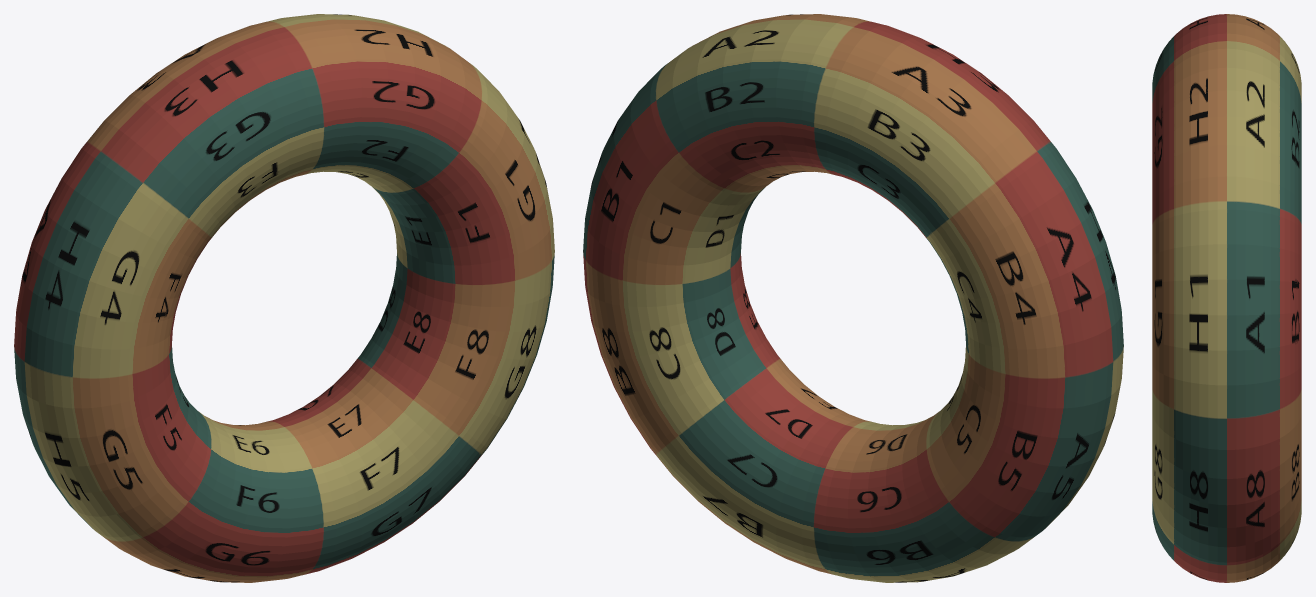
The model's file is texture_torus_R27_r30.glb.
3 renders of one model, left to right at view 1: azimuth 30°, elevation 25°; view 2: azimuth 150°, elevation 25°; view 3: azimuth 270°, elevation 25°, orthographic. The views are drawn at different scales.
Parts seen in each view (by area): view 1: world; view 2: world; view 3: world.
Boxes of the visible parts, bbox=[...] form: world: bbox=[14, 14, 554, 582]; world: bbox=[583, 14, 1123, 582]; world: bbox=[1152, 14, 1301, 582].
Size of the model in its own units: 38 by 37.93 by 9.98.
Materials: 1 (1 with a texture image).
